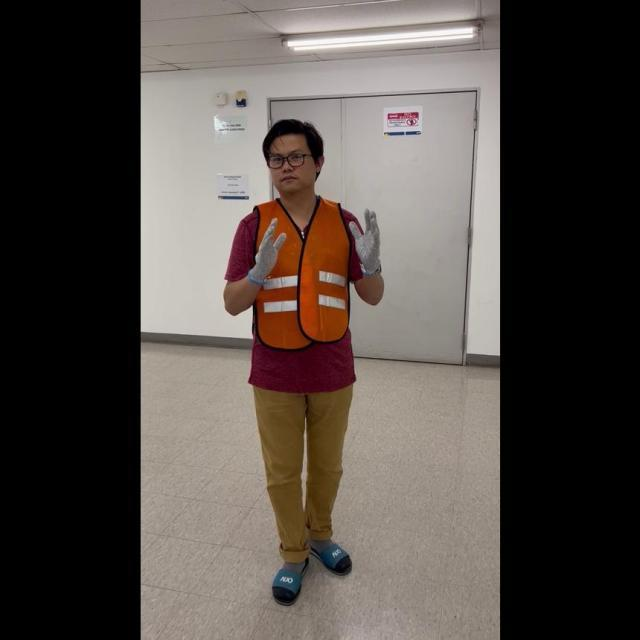gloved_hand: (247, 211, 287, 286), (348, 202, 381, 275)
